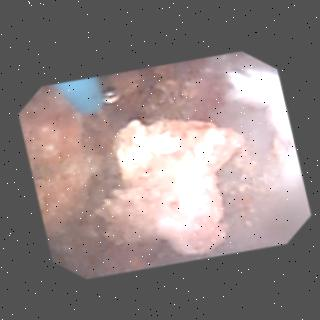fiber: (55, 78, 101, 110)
stone: (22, 72, 206, 236), (92, 118, 241, 252)
